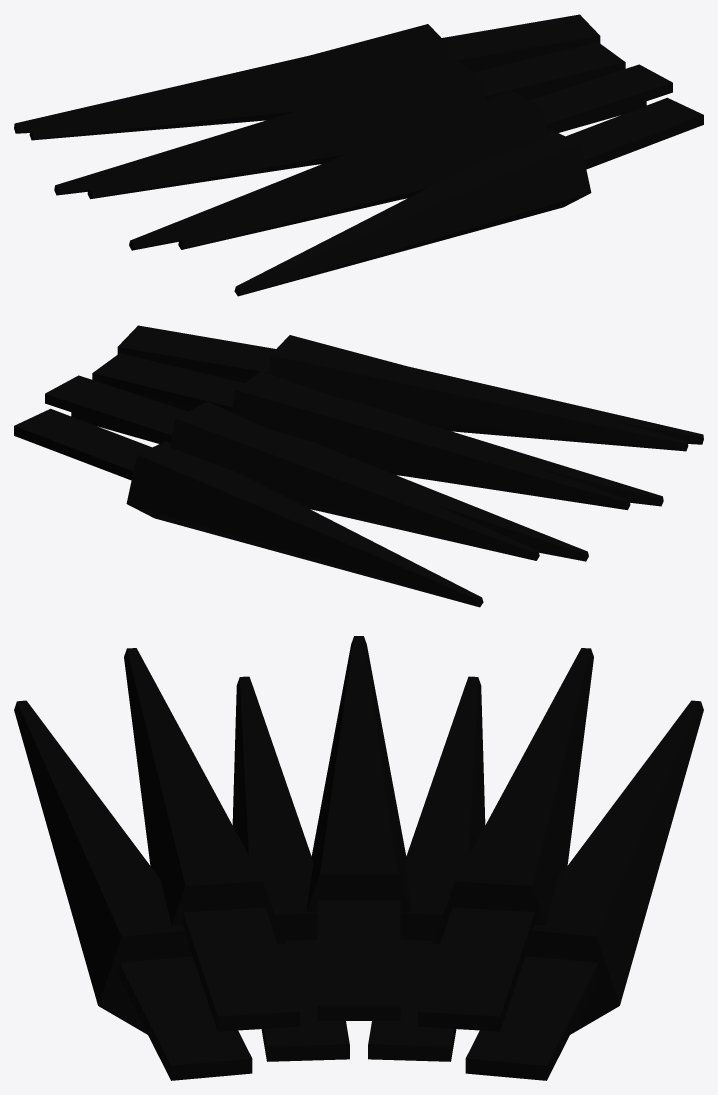
The model's file is SM_carrots.fbx.
The picture shows the model from 3 angles, top to bottom: view 1: azimuth 30°, elevation 25°; view 2: azimuth 150°, elevation 25°; view 3: azimuth 270°, elevation 25°; orthographic projection. The views are drawn at different scales.
Parts seen in each view (by area): view 1: carrots; view 2: carrots; view 3: carrots.
Part boxes in pixels (left/top/right/bottom): carrots: left=14, top=14, right=703, bottom=296; carrots: left=14, top=325, right=703, bottom=607; carrots: left=14, top=636, right=703, bottom=1080.
Bounding box in the file's own units: 0.2327 × 0.0389 × 0.1661.
